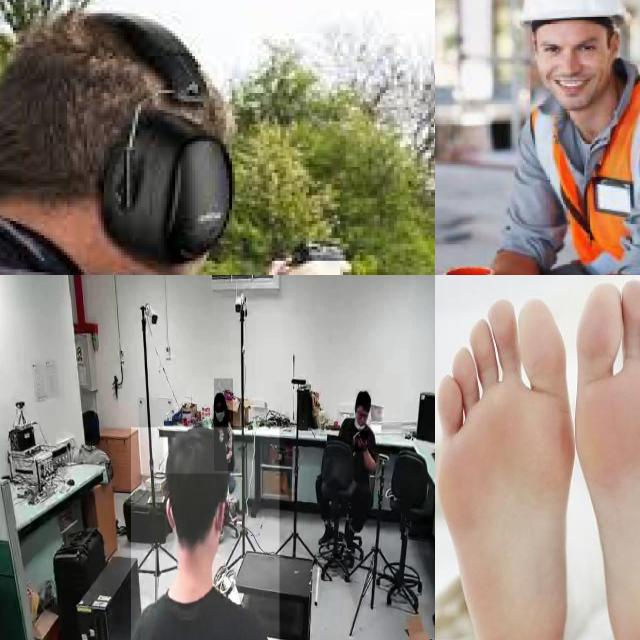Barefoots: (435, 303, 568, 640), (575, 275, 640, 640)
Ear-protection: (90, 101, 232, 266)
No_Ear-Protection: (608, 29, 621, 66)
No_Glasses: (535, 32, 603, 59)
face_mask: (212, 405, 230, 421)
hand_noglove: (355, 431, 369, 452)
head_helmet: (522, 0, 626, 22)
head_nohelmet: (164, 426, 228, 474), (355, 389, 371, 406), (213, 392, 225, 403)
person: (131, 427, 280, 640), (314, 382, 380, 546), (214, 378, 234, 471)
shoes: (316, 520, 336, 548)
